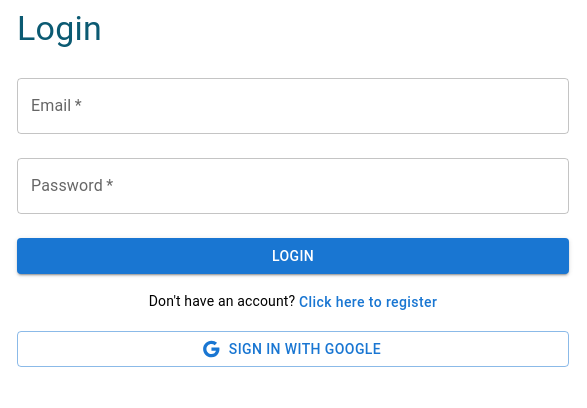
Scenario: Login Page › displays error when no token is received
The width and height of the screenshot is (587, 408).
Step 1. Type "user@example.com" into the field labelled "Email *" → (293, 106), box [17,78,569,134]
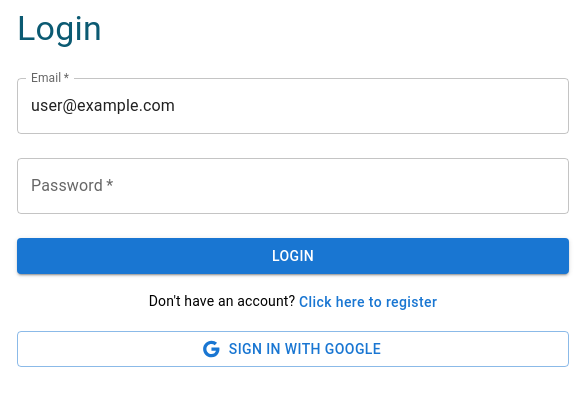
Step 2. Type "password123" into the password field labelled "Password *" → (293, 186), box [17,158,569,214]
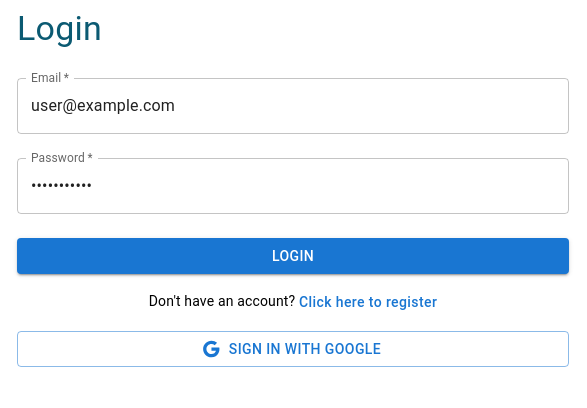
Step 3. Click the button "Login" → (293, 256), box [17,238,569,274]
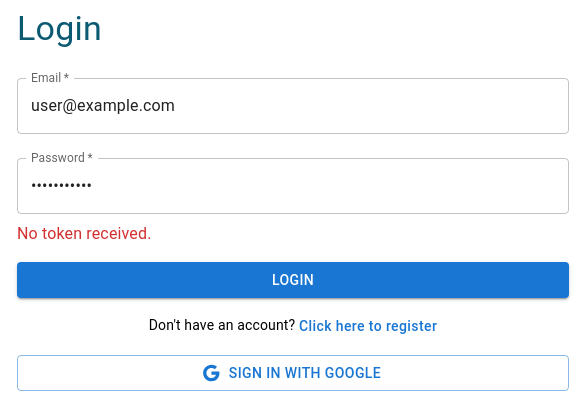
Expected: the text "No token received." is shown, [17,224,152,243]
